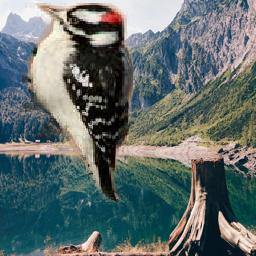Woodpecker: (23, 4, 134, 203)
